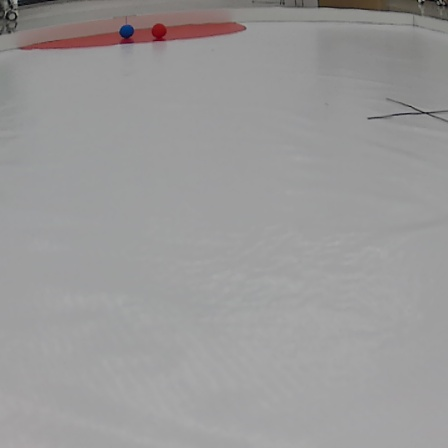blue: (120, 26, 135, 37)
red: (151, 25, 168, 37)
red_base: (24, 21, 251, 46)
